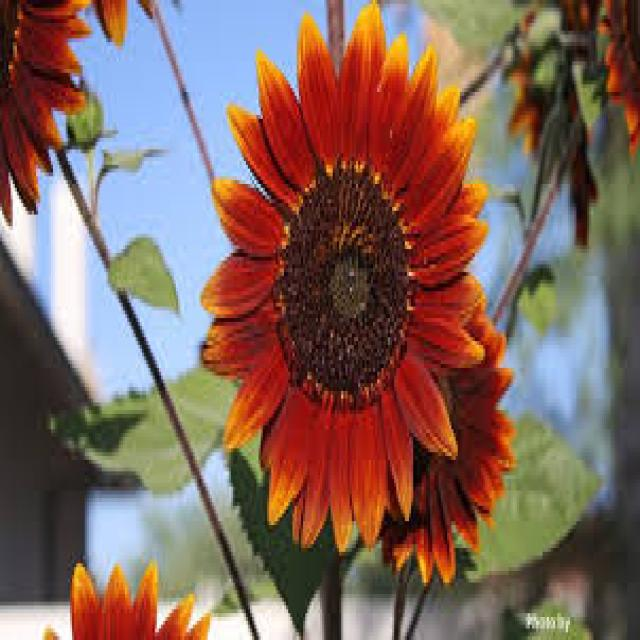sunflower: (200, 0, 488, 560), (374, 284, 518, 594), (499, 16, 607, 251), (0, 0, 97, 237), (31, 562, 215, 640), (591, 0, 638, 165)
